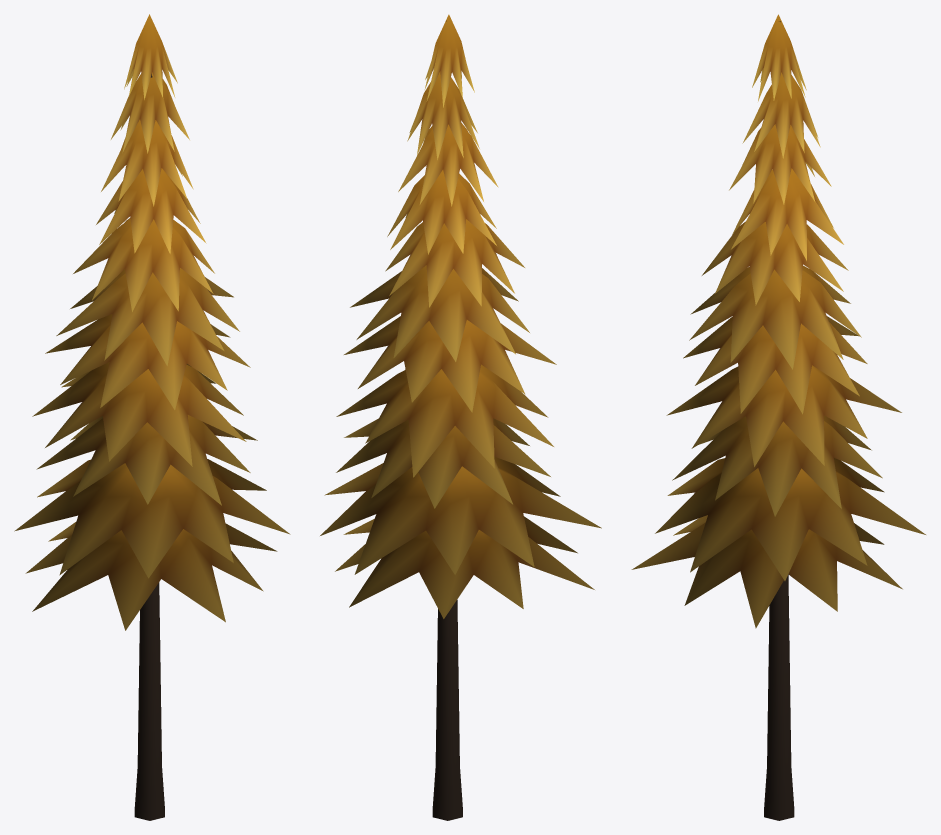
The picture shows the model from 3 angles, left to right: view 1: azimuth 30°, elevation 25°; view 2: azimuth 150°, elevation 25°; view 3: azimuth 270°, elevation 25°; orthographic projection.
Parts seen in each view (by area): view 1: TR_LarchGold; view 2: TR_LarchGold; view 3: TR_LarchGold.
Part boxes in pixels (left/top/right/bottom): TR_LarchGold: left=14, top=14, right=290, bottom=820; TR_LarchGold: left=320, top=14, right=601, bottom=820; TR_LarchGold: left=631, top=14, right=925, bottom=820.
Size of the model in its own units: 6.65 by 20.05 by 6.73.
